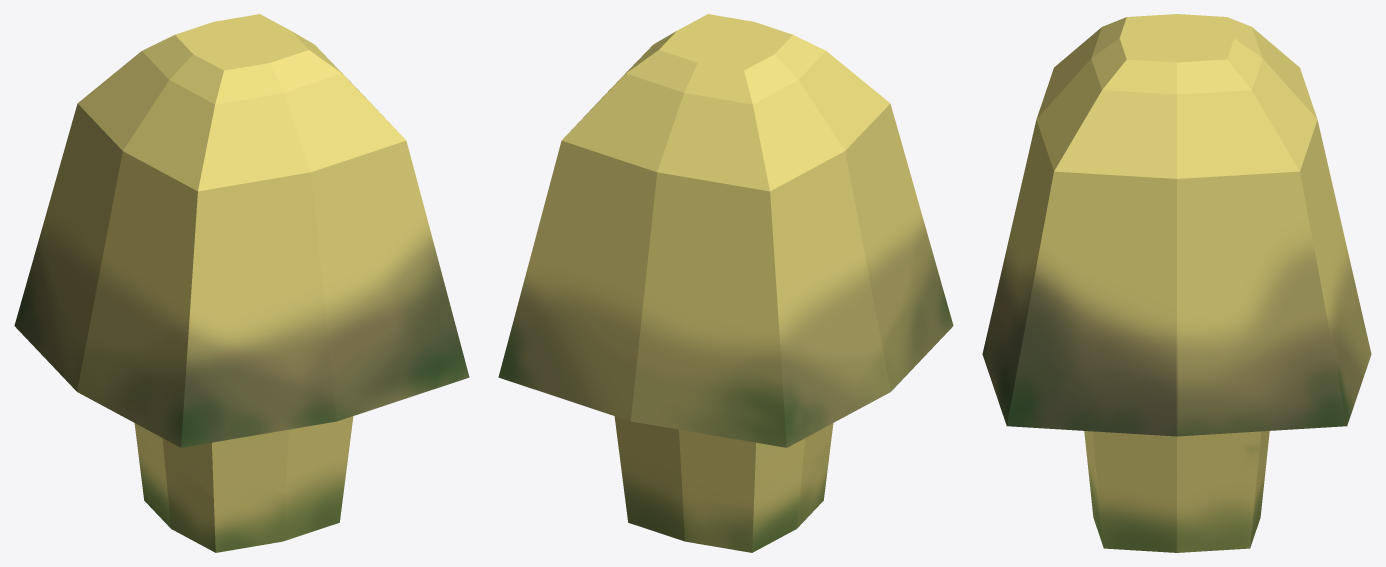
File: Mushroom-3.fbx
3 renders of one model, left to right at view 1: azimuth 30°, elevation 25°; view 2: azimuth 150°, elevation 25°; view 3: azimuth 270°, elevation 25°, orthographic. The views are drawn at different scales.
Parts seen in each view (by area): view 1: Mushroom-3; view 2: Mushroom-3; view 3: Mushroom-3.
Boxes of the visible parts, x1,y1,x2,y2 form: Mushroom-3: (14,14,469,552); Mushroom-3: (498,14,953,552); Mushroom-3: (982,14,1371,552).
Size of the model in its own units: 1112 by 1512 by 1112.
